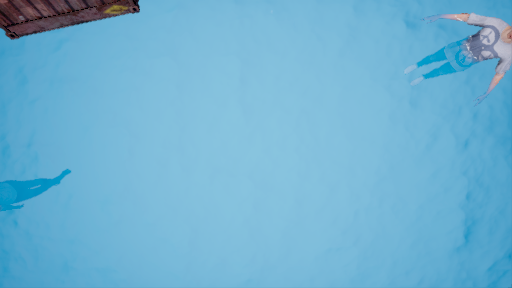person: (407, 9, 512, 105)
